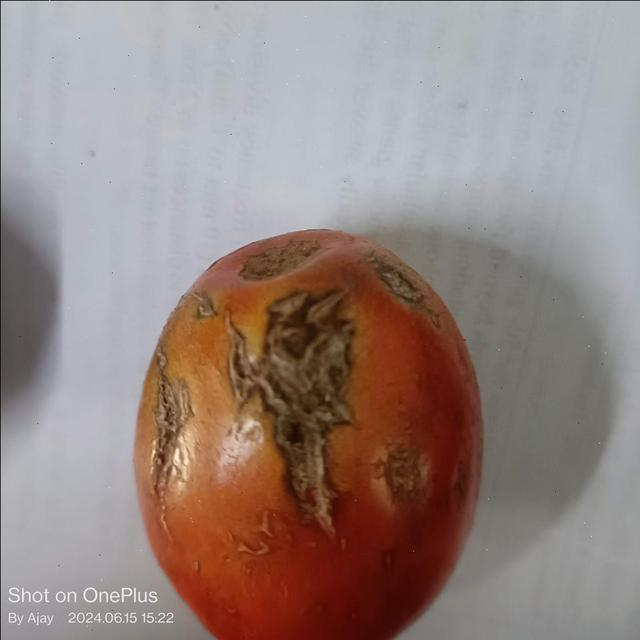Cracking Fruit: (101, 166, 277, 271)
